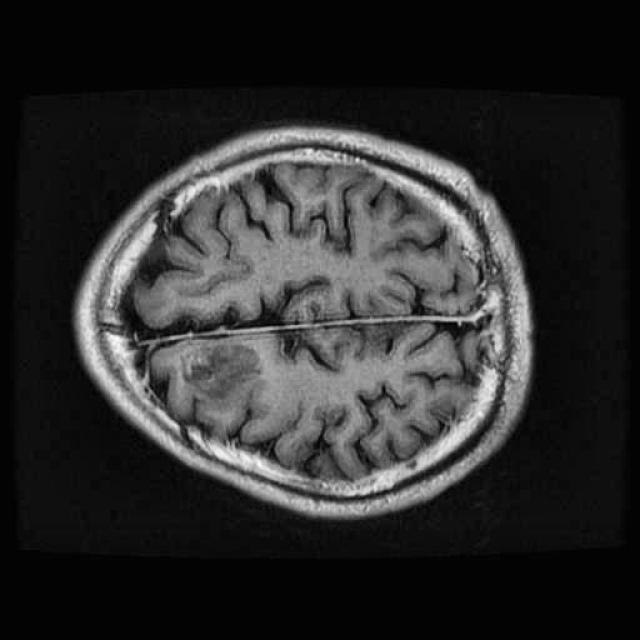Non-Tumor: (173, 339, 269, 409)
